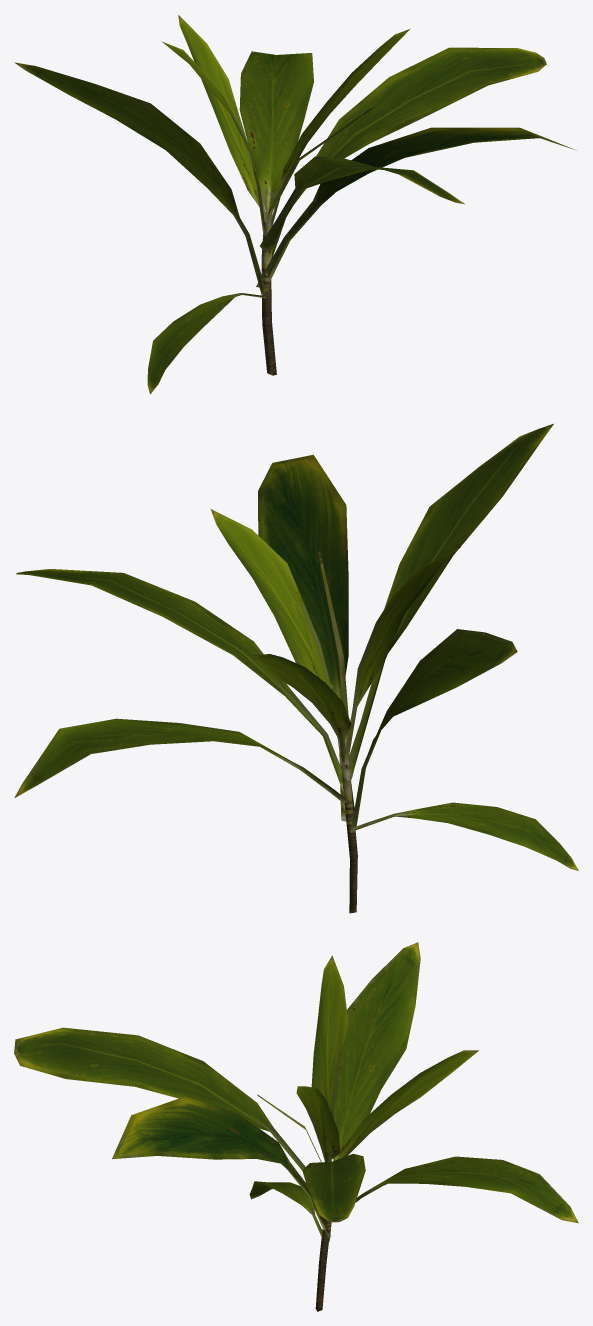
Rendered from background_plant_9.glb.
The picture shows the model from 3 angles, top to bottom: view 1: azimuth 30°, elevation 25°; view 2: azimuth 150°, elevation 25°; view 3: azimuth 270°, elevation 25°; orthographic projection. The views are drawn at different scales.
Visible parts, largest first — view 1: yes.2; view 2: yes.2; view 3: yes.2.
Boxes of the visible parts, <box> form: yes.2: <box>14,15,576,394</box>; yes.2: <box>14,423,578,913</box>; yes.2: <box>14,942,578,1311</box>.
Size of the model in its own units: 4.25 by 2.96 by 4.87.
Materials: 1 (1 with a texture image).
